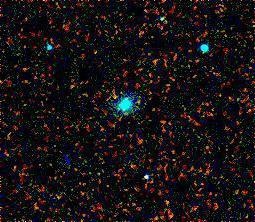star: (102, 82, 132, 112)
